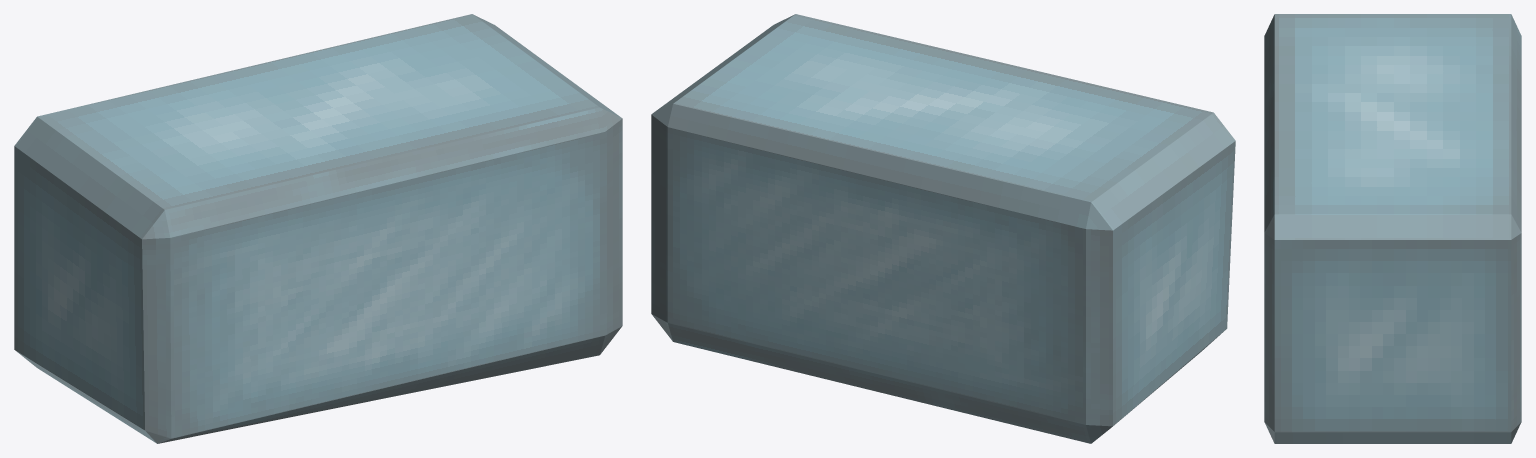
Rendered from IceBlock.fbx.
The picture shows the model from 3 angles, left to right: view 1: azimuth 30°, elevation 25°; view 2: azimuth 150°, elevation 25°; view 3: azimuth 270°, elevation 25°; orthographic projection. The views are drawn at different scales.
Visible parts, largest first — view 1: IceBlock; view 2: IceBlock; view 3: IceBlock.
Boxes of the visible parts, <box> form: IceBlock: <box>14,14,622,443</box>; IceBlock: <box>651,14,1235,443</box>; IceBlock: <box>1264,14,1521,443</box>.
Bounding box in the file's own units: 2 × 1 × 1.
